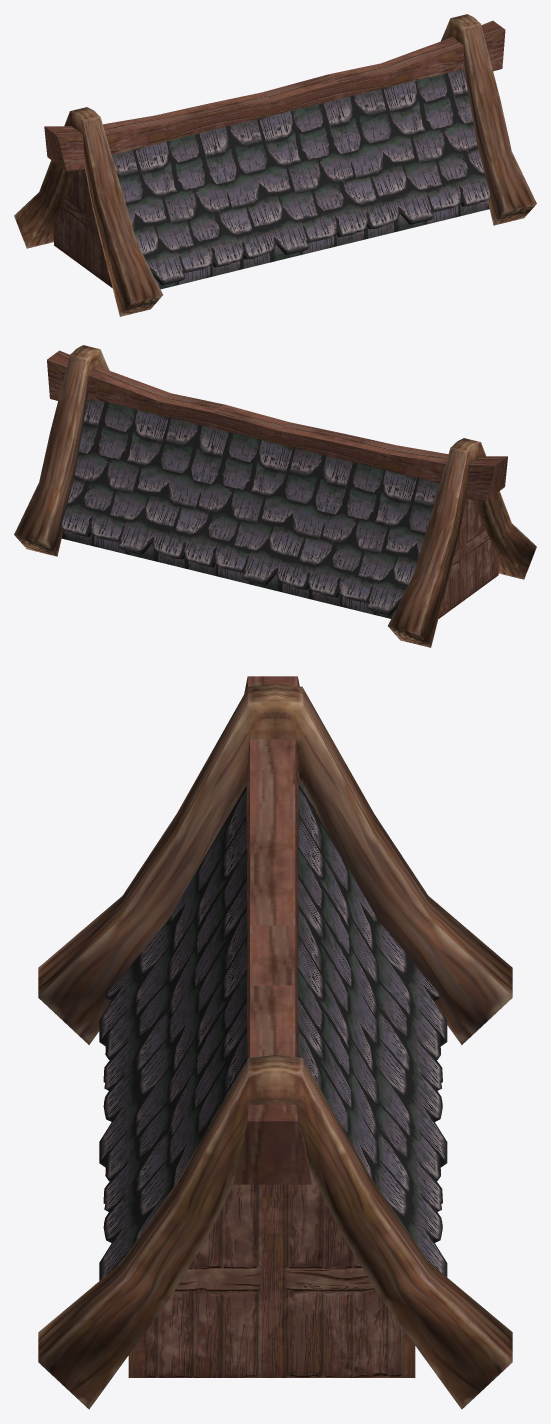
Rendered from roof1x3.fbx.
The picture shows the model from 3 angles, top to bottom: view 1: azimuth 30°, elevation 25°; view 2: azimuth 150°, elevation 25°; view 3: azimuth 270°, elevation 25°; orthographic projection. The views are drawn at different scales.
Parts seen in each view (by area): view 1: roof1x3; view 2: roof1x3; view 3: roof1x3.
Part boxes in pixels (box(x1,y1,x2,y2)): roof1x3: box(14, 14, 536, 316); roof1x3: box(14, 345, 536, 647); roof1x3: box(38, 676, 512, 1409).
Bounding box in the file's own units: 541 × 193 × 248.
